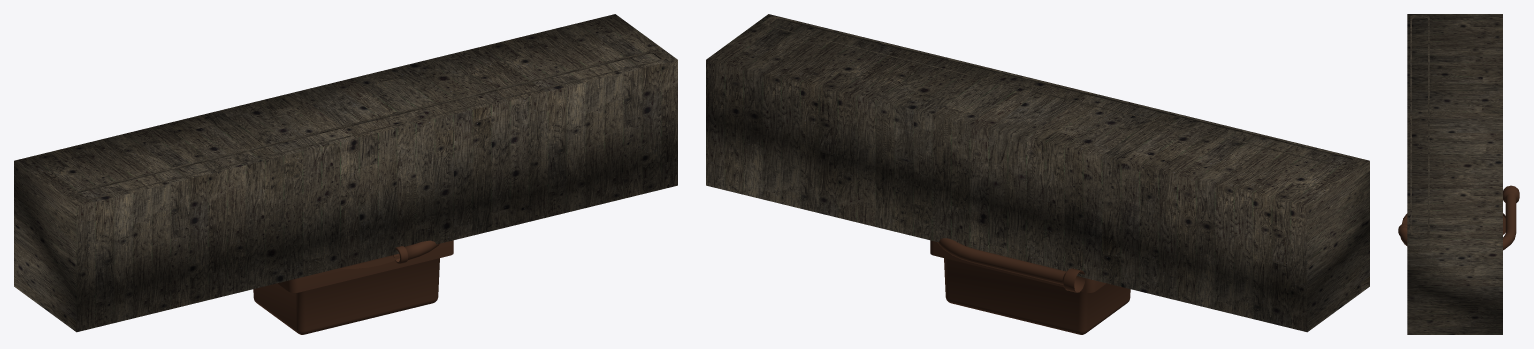
The model's file is Lower_counter.glb.
3 renders of one model, left to right at view 1: azimuth 30°, elevation 25°; view 2: azimuth 150°, elevation 25°; view 3: azimuth 270°, elevation 25°, orthographic. The views are drawn at different scales.
Parts seen in each view (by area): view 1: Working_counter, Sink, Ingredients, Tap; view 2: Working_counter, Sink, Ingredients, Tap; view 3: Working_counter, Ingredients, Tap, Button.
Part boxes in pixels (x1,y1,x2,y2): Working_counter: [14, 14, 677, 332]; Sink: [253, 240, 453, 334]; Ingredients: [69, 50, 668, 201]; Tap: [393, 240, 439, 263]; Working_counter: [706, 14, 1369, 332]; Sink: [930, 240, 1130, 334]; Ingredients: [761, 16, 1360, 167]; Tap: [937, 238, 1085, 292]; Working_counter: [1407, 14, 1502, 334]; Ingredients: [1410, 15, 1429, 235]; Tap: [1398, 185, 1519, 250]; Button: [1402, 213, 1505, 234].
Bounding box in the file's own units: 5 × 1.55 × 1.14.
Materials: 2 (2 with a texture image).
